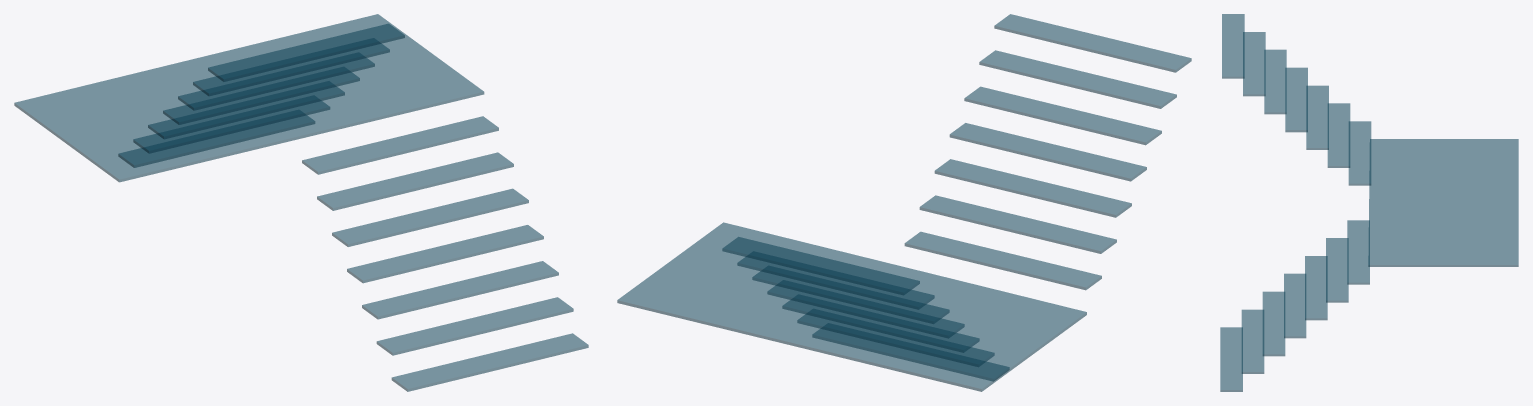
Rendered from floatingUShapeStairs.glb.
3 views of the same model, side by side, from view 1: azimuth 30°, elevation 25°; view 2: azimuth 150°, elevation 25°; view 3: azimuth 270°, elevation 25° (orthographic). The views are drawn at different scales.
Parts seen in each view (by area): view 1: Stair_floatingU; view 2: Stair_floatingU; view 3: Stair_floatingU.
Boxes of the visible parts, x1,y1,x2,y2 form: Stair_floatingU: (14,14,588,391); Stair_floatingU: (617,14,1191,391); Stair_floatingU: (1220,14,1518,391).
Size of what is drawn, in the model's own units: 4.02 by 3.76 by 4.03.
1 material, 1 textured.
